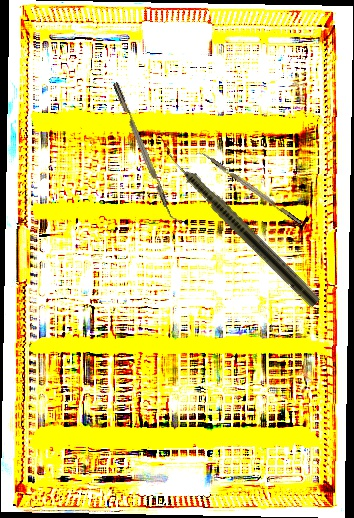Chopper: (112, 79, 183, 227), (194, 147, 302, 230)
Handpiece: (155, 140, 323, 309)
